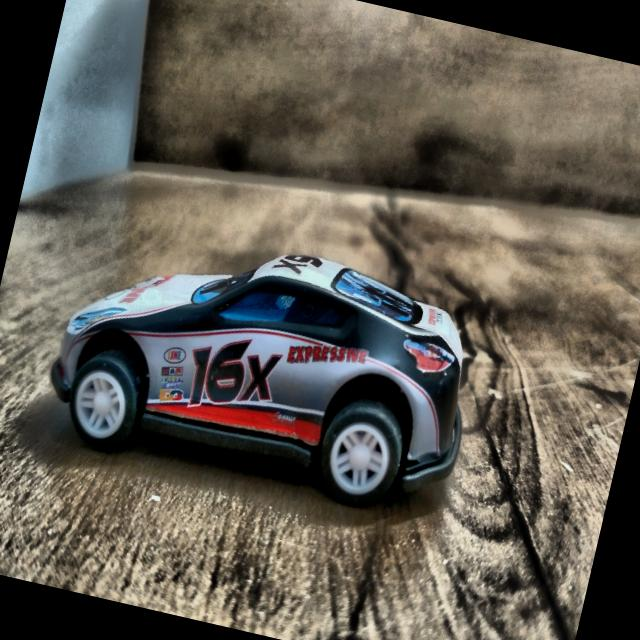Car: (41, 200, 501, 530)
